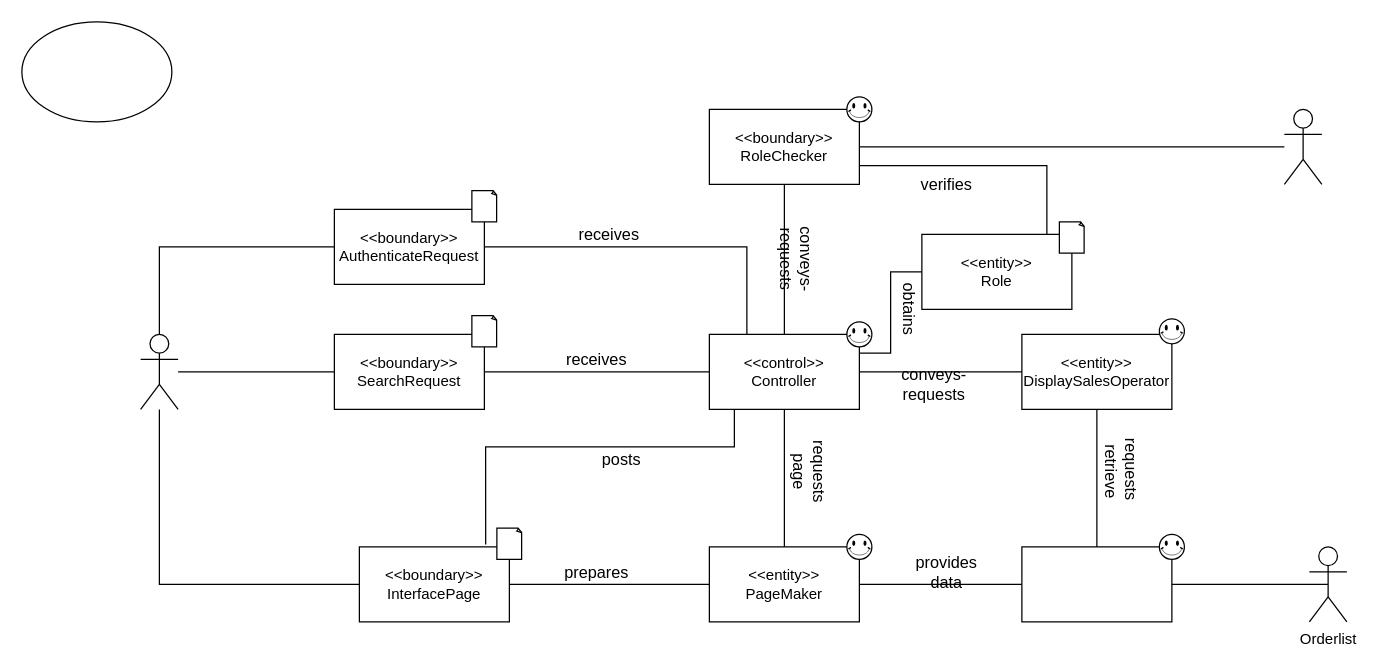
Some shapes in this 1378 by 670 pixel diagram are drawn without their labels. The box of each missing label's shape, as (x1, y1, x2, y2) in pixels:
<<boundary>> OrderlistConnection: (1021, 546, 1172, 622)
Authenticator: (1283, 108, 1322, 184)
Manager: (139, 333, 178, 409)
UC-11 DisplaySales: (21, 21, 172, 122)
